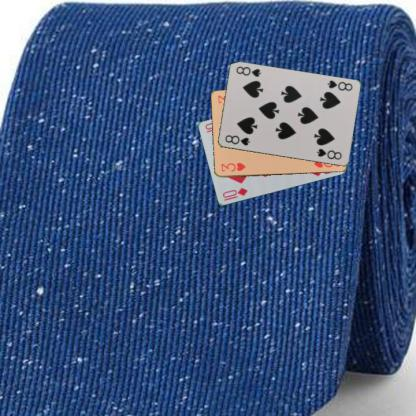10d: (220, 185, 249, 202)
3h: (218, 160, 247, 173)
8s: (222, 132, 251, 147), (324, 78, 354, 92)
